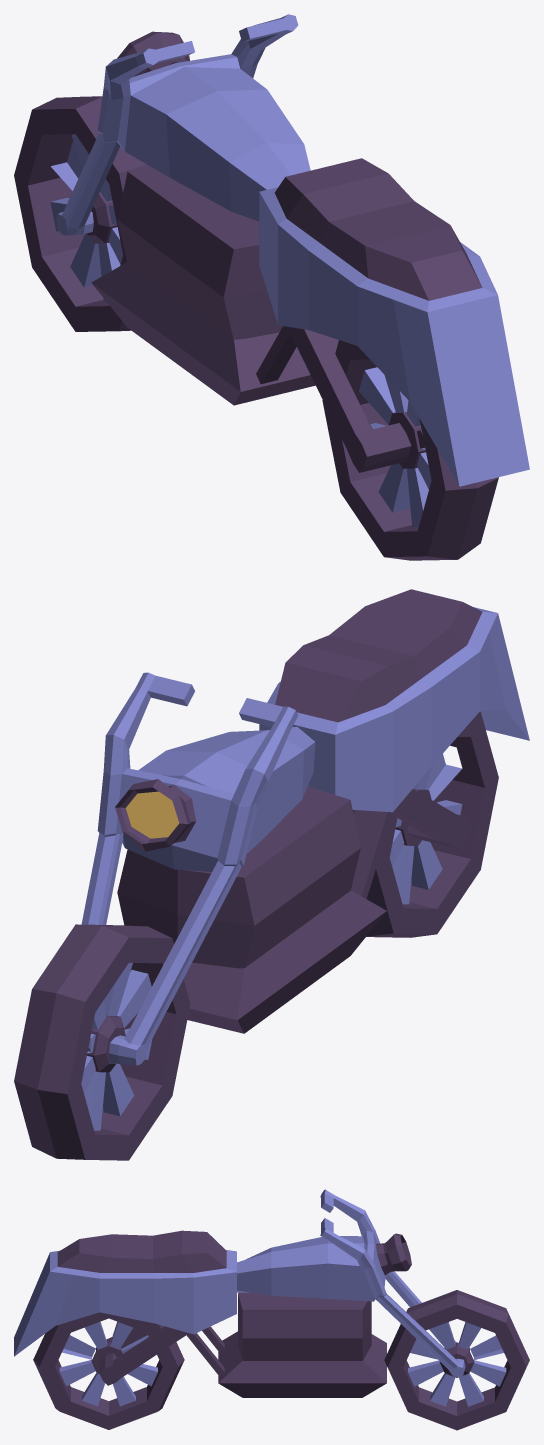
Rendered from scene_19SnFp1DBN.glb.
The picture shows the model from 3 angles, top to bottom: view 1: azimuth 30°, elevation 25°; view 2: azimuth 150°, elevation 25°; view 3: azimuth 270°, elevation 25°; orthographic projection. The views are drawn at different scales.
Parts seen in each view (by area): view 1: Circle; view 2: Circle; view 3: Circle.
Boxes of the visible parts, bbox=[...] form: Circle: bbox=[14, 14, 529, 560]; Circle: bbox=[14, 589, 529, 1160]; Circle: bbox=[14, 1189, 529, 1430].
Bounding box in the file's own units: 0.2081 × 0.4876 × 1.04.
